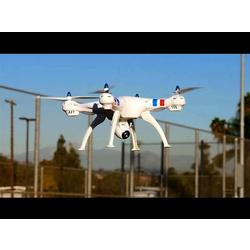drone: (34, 82, 204, 152)
